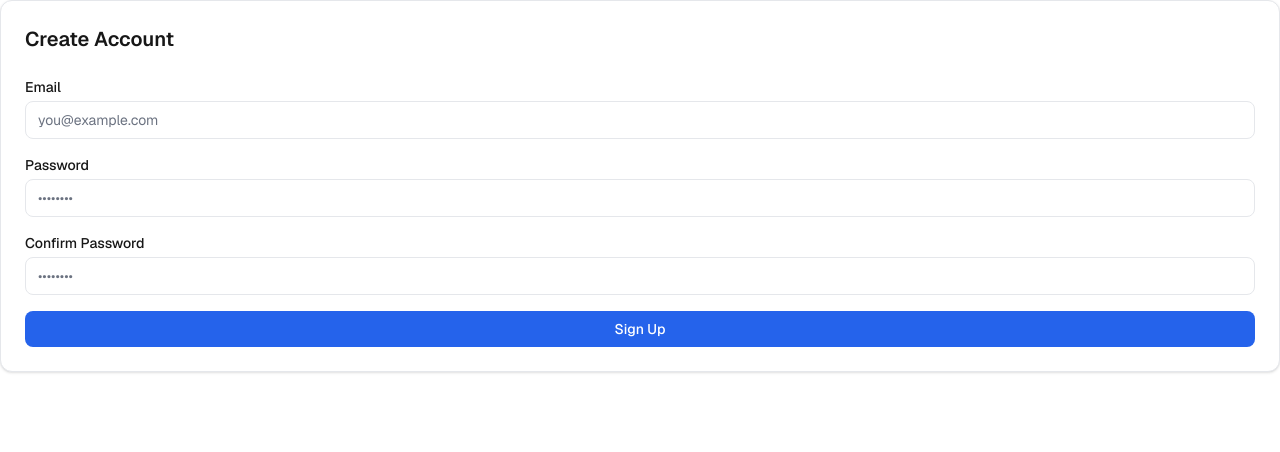
SignupForm › shows validation error when passwords do not match
This screenshot has width=1280, height=452.
Type "user@example.com" into the field with placeholder "you@example.com".
click(640, 120); type("user@example.com")  # box [25,101,1255,139]
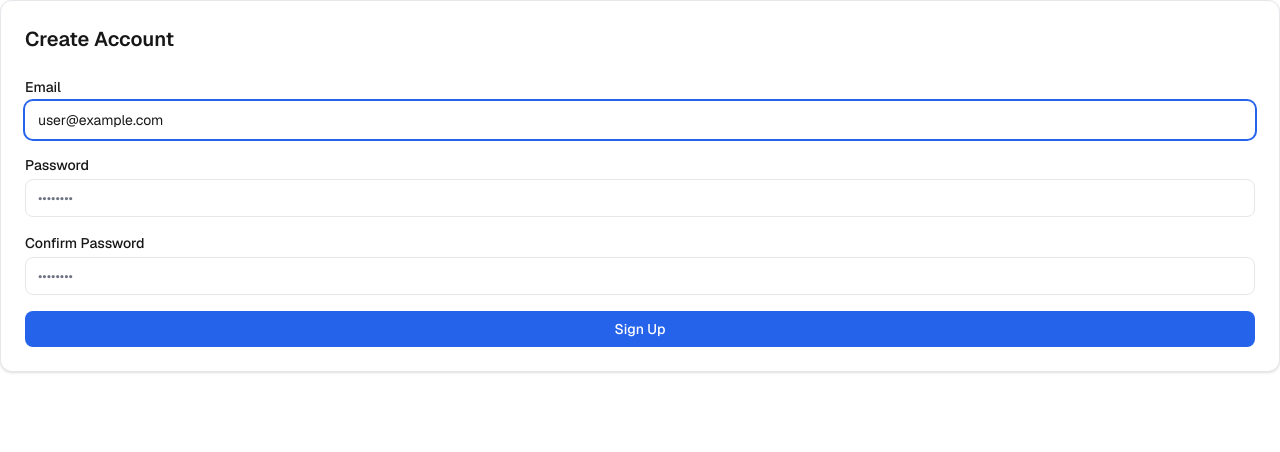
Type "12345678" into the 1st password field with placeholder "••••••••".
click(640, 198); type("12345678")  # box [25,179,1255,217]
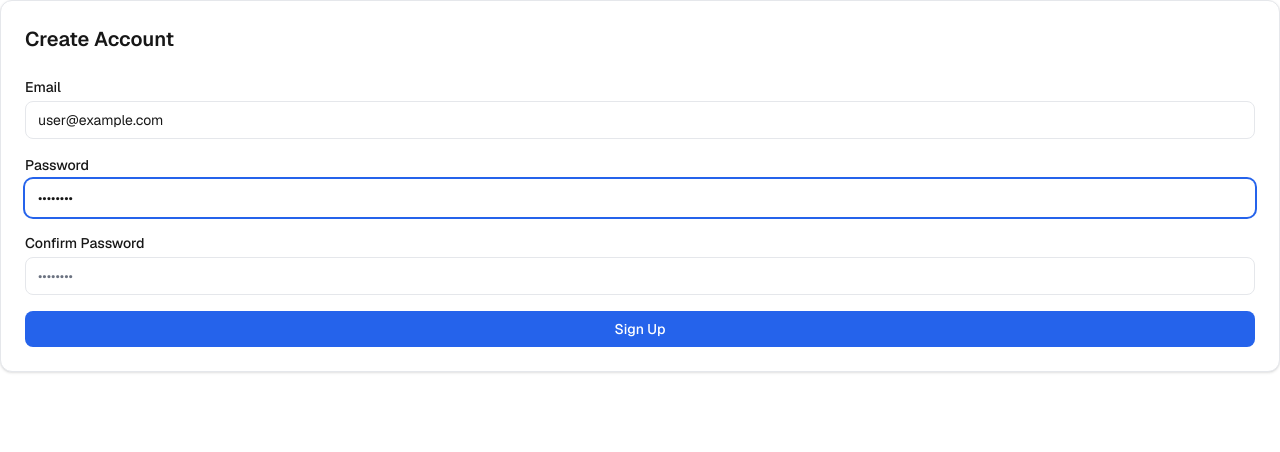
Type "87654321" into the password field with placeholder "••••••••".
click(640, 276); type("87654321")  # box [25,257,1255,295]
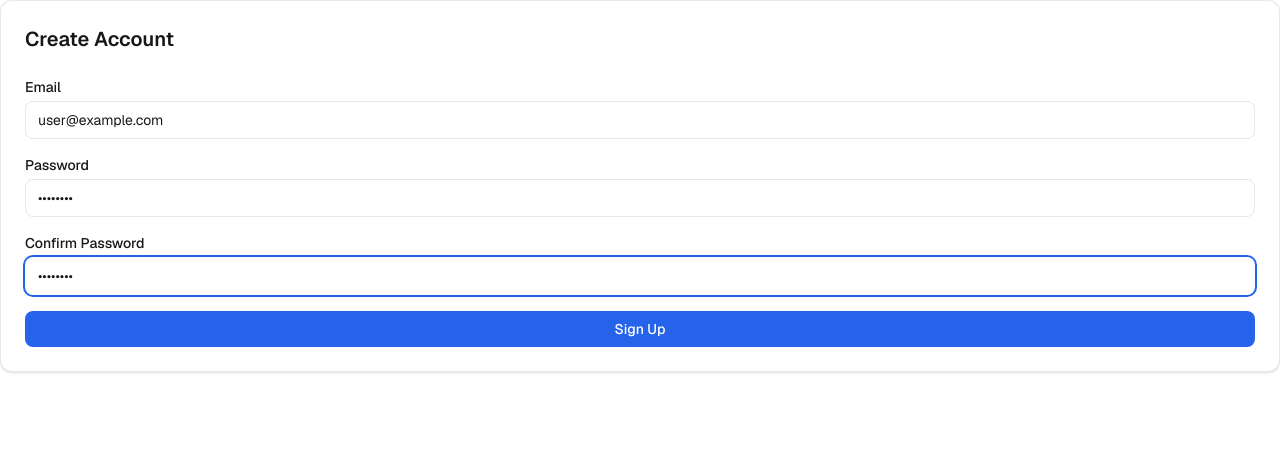
Click the button "Sign Up".
click(640, 329)  # box [25,311,1255,347]
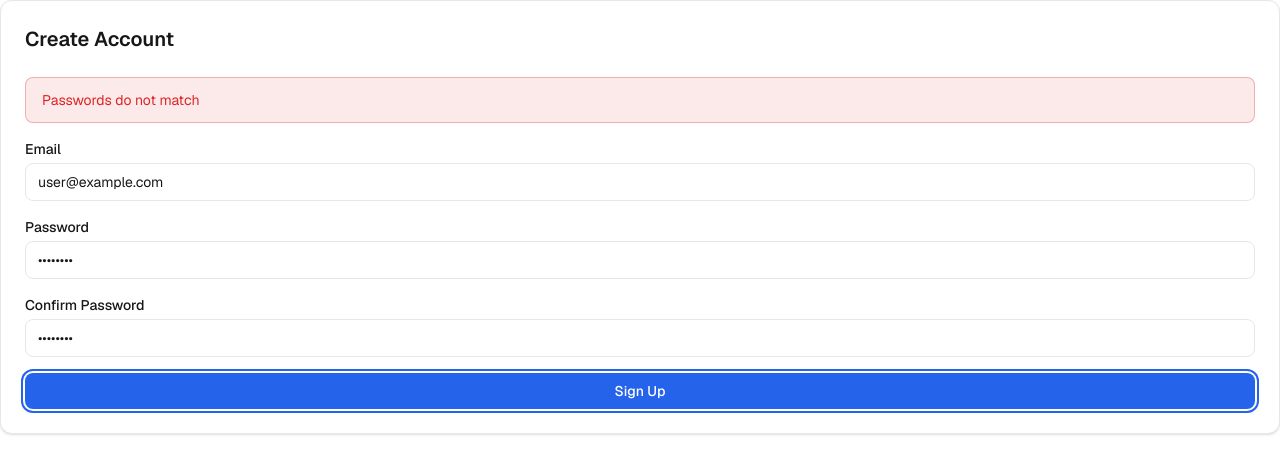
Expected: the text "Passwords do not match" is shown, [25,77,1255,123]
